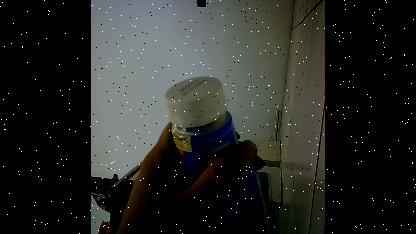Plastic Bottle: (158, 66, 279, 234)
